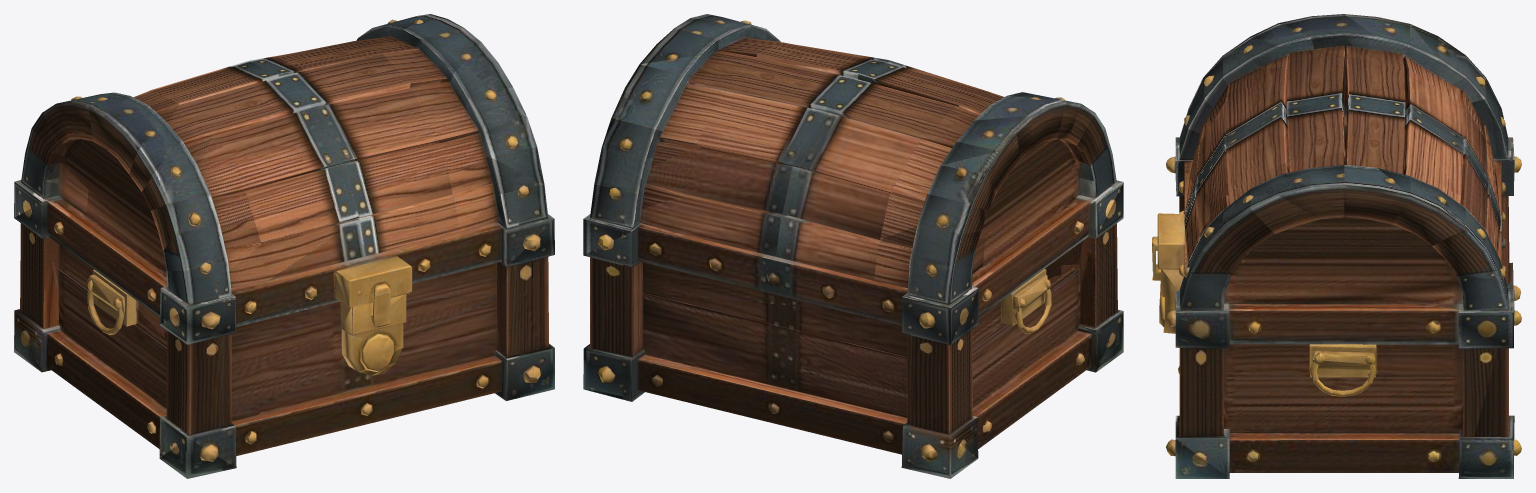
The model's file is chest.glb.
3 renders of one model, left to right at view 1: azimuth 30°, elevation 25°; view 2: azimuth 150°, elevation 25°; view 3: azimuth 270°, elevation 25°, orthographic. The views are drawn at different scales.
Size of the model in its own units: 0.768 by 0.6 by 0.6855.
1 material, 1 textured.
